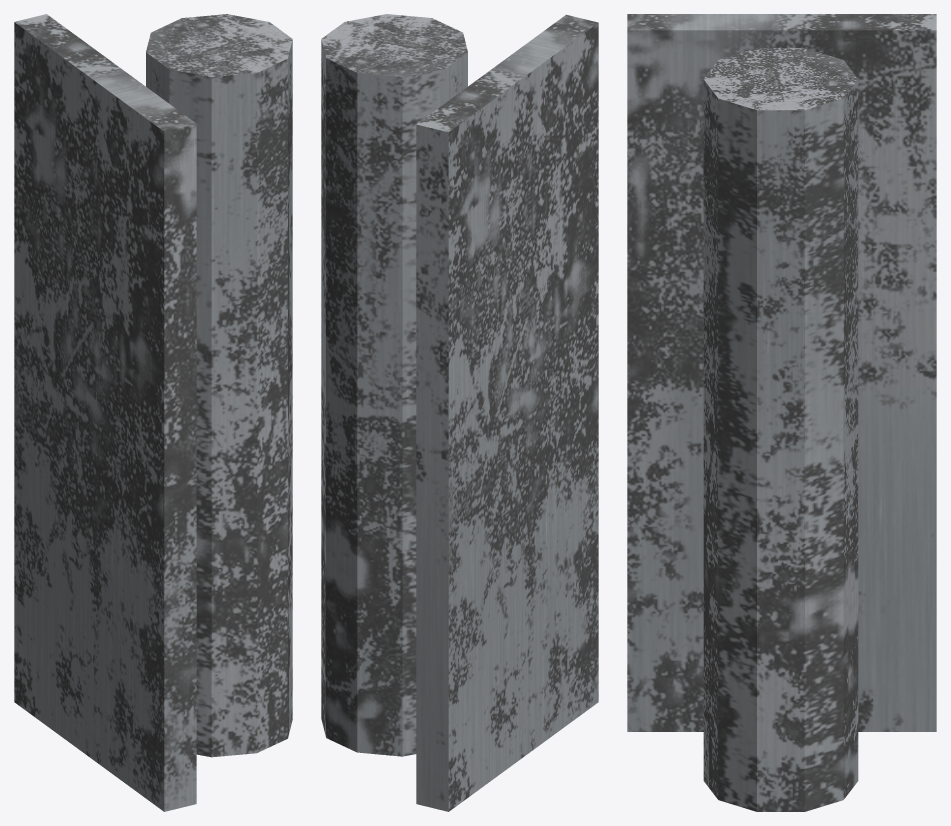
File: DoorHinges.fbx
3 renders of one model, left to right at view 1: azimuth 30°, elevation 25°; view 2: azimuth 150°, elevation 25°; view 3: azimuth 270°, elevation 25°, orthographic. The views are drawn at different scales.
Visible parts, largest first — view 1: pasted__Door_Mechanic_Top; view 2: pasted__Door_Mechanic_Top; view 3: pasted__Door_Mechanic_Top.
Boxes of the visible parts, x1,y1,x2,y2 form: pasted__Door_Mechanic_Top: [14, 14, 292, 811]; pasted__Door_Mechanic_Top: [321, 14, 598, 811]; pasted__Door_Mechanic_Top: [627, 14, 936, 811].
Bounding box in the file's own units: 0.2062 × 0.7 × 0.28.
